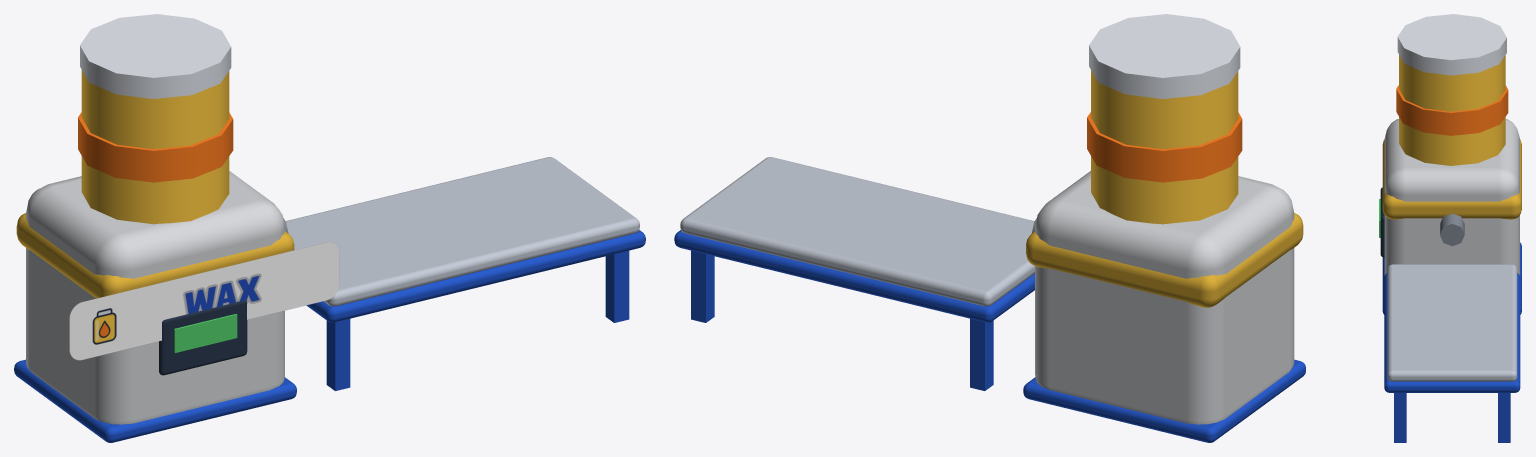
Rendered from rack_wax.glb.
3 renders of one model, left to right at view 1: azimuth 30°, elevation 25°; view 2: azimuth 150°, elevation 25°; view 3: azimuth 270°, elevation 25°, orthographic. The views are drawn at different scales.
Parts seen in each view (by area): view 1: Rack_wax, Giant; view 2: Rack_wax, Giant; view 3: Rack_wax, Giant.
Boxes of the visible parts, x1,y1,x2,y2 form: Rack_wax: [14, 157, 645, 442]; Giant: [78, 14, 233, 224]; Rack_wax: [674, 157, 1305, 442]; Giant: [1087, 14, 1242, 224]; Rack_wax: [1379, 119, 1521, 442]; Giant: [1396, 14, 1508, 165].
Size of the model in its own units: 4.68 by 2.68 by 1.38.
Materials: 3 (1 with a texture image).
